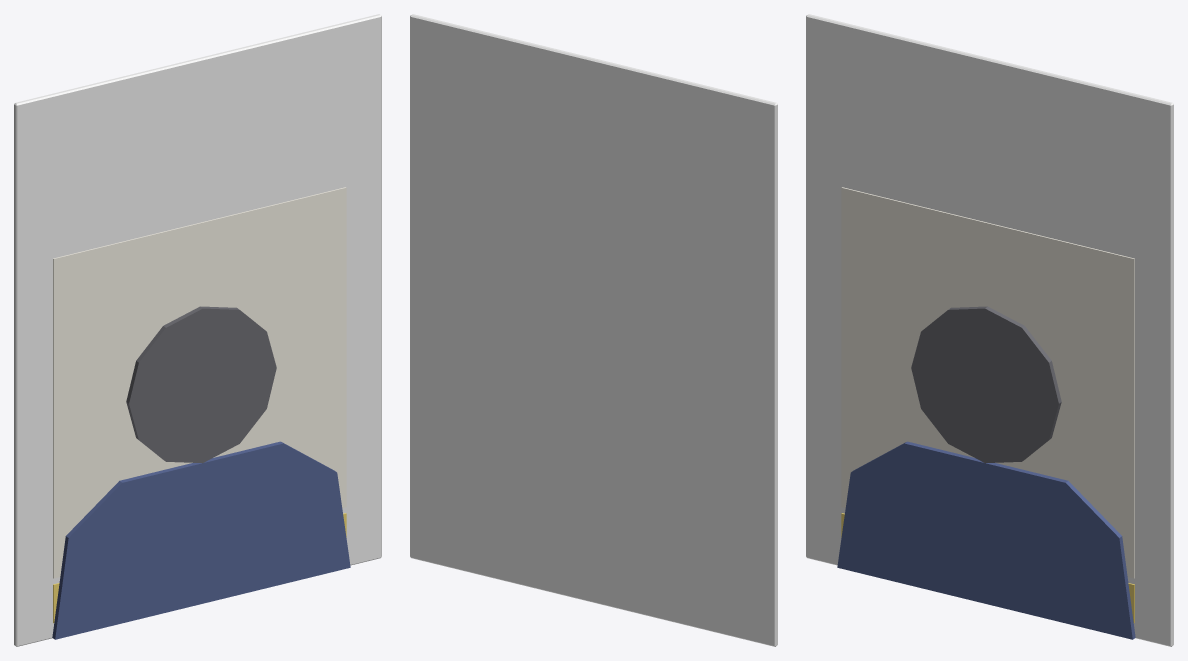
File: prop_poster_campaign_01.glb
3 views of the same model, side by side, from view 1: azimuth 30°, elevation 25°; view 2: azimuth 150°, elevation 25°; view 3: azimuth 330°, elevation 25° (orthographic).
Visible parts, largest first — view 1: prop_poster_campaign_01_body; view 2: prop_poster_campaign_01_body; view 3: prop_poster_campaign_01_body.
Part boxes in pixels (<box>): prop_poster_campaign_01_body: <box>14,14,381,646</box>; prop_poster_campaign_01_body: <box>410,14,777,646</box>; prop_poster_campaign_01_body: <box>806,14,1173,646</box>.
Size of the model in its own units: 0.6 by 0.85 by 0.018.
